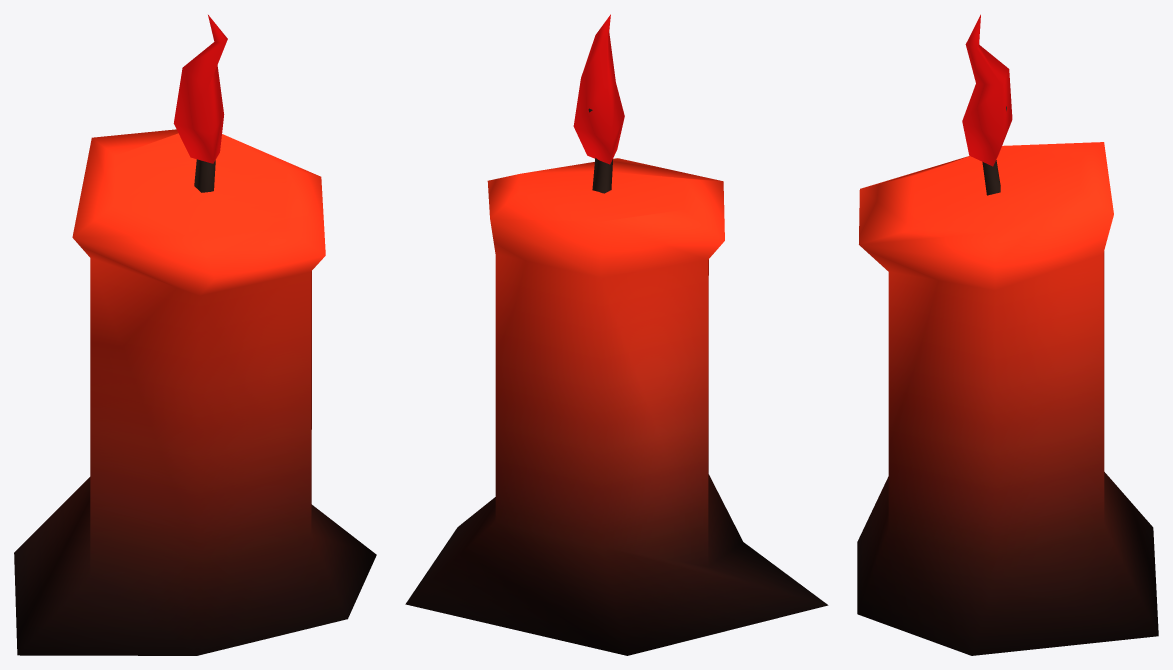
File: CandleShapeD.009.glb
3 renders of one model, left to right at view 1: azimuth 30°, elevation 25°; view 2: azimuth 150°, elevation 25°; view 3: azimuth 270°, elevation 25°, orthographic. The views are drawn at different scales.
Parts seen in each view (by area): view 1: CandleShapeD.009; view 2: CandleShapeD.009; view 3: CandleShapeD.009.
Boxes of the visible parts, x1=… form: CandleShapeD.009: x1=14, y1=15, x2=376, y2=655; CandleShapeD.009: x1=405, y1=14, x2=828, y2=655; CandleShapeD.009: x1=857, y1=14, x2=1158, y2=655.
Size of the model in its own units: 0.1822 by 0.2697 by 0.1308.
Materials: 2 (2 with a texture image).
